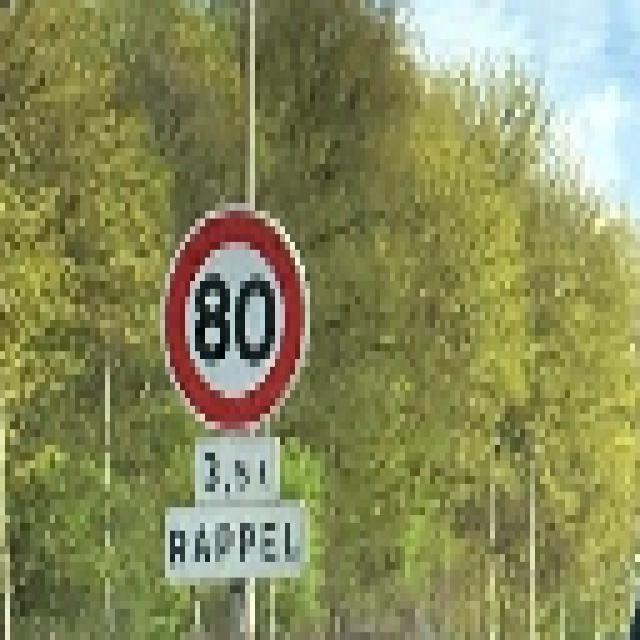speed_80: (158, 198, 312, 438)
